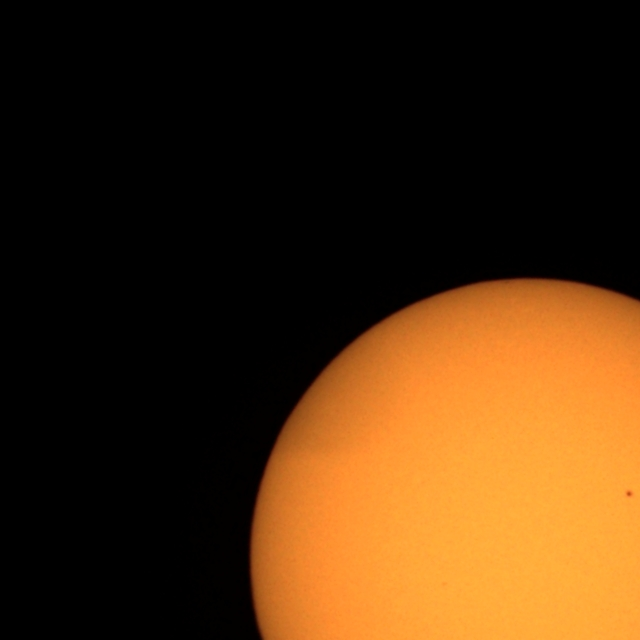sunspot: (624, 489, 634, 499)
